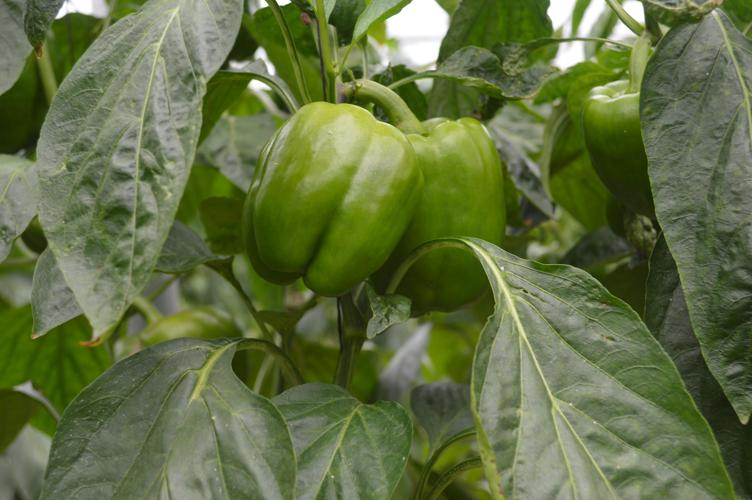BellPepper: (241, 101, 420, 294), (370, 116, 504, 316), (583, 82, 653, 219)
